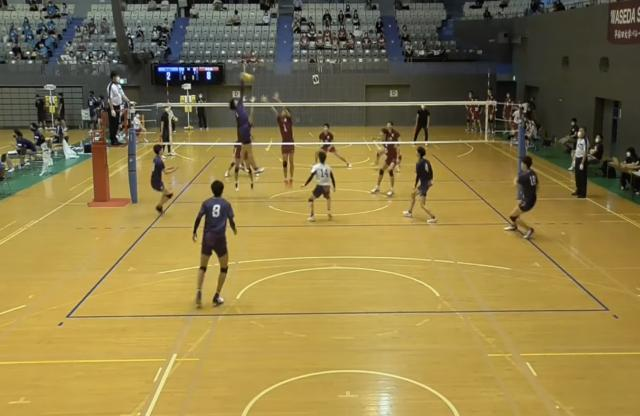spike: (228, 70, 267, 180)
